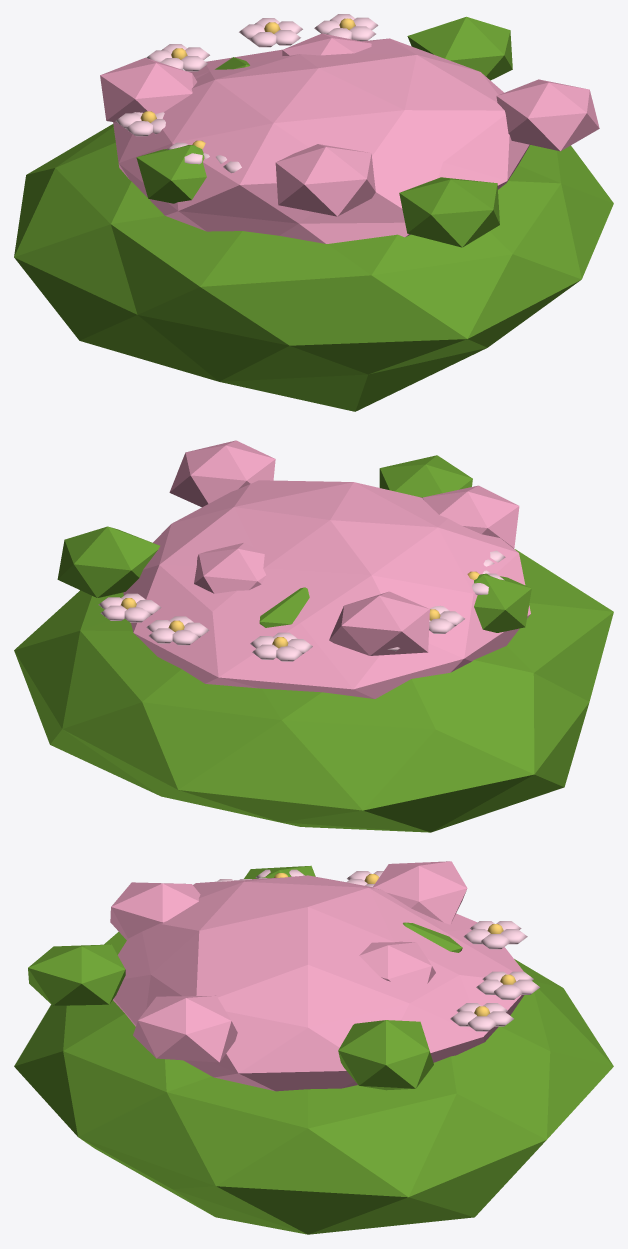
File: blossom-crown-leaf.glb
The picture shows the model from 3 angles, top to bottom: view 1: azimuth 30°, elevation 25°; view 2: azimuth 150°, elevation 25°; view 3: azimuth 270°, elevation 25°; orthographic projection. The views are drawn at different scales.
Parts seen in each view (by area): view 1: blossom-crown; view 2: blossom-crown; view 3: blossom-crown.
Part boxes in pixels (bbox=[...]): blossom-crown: bbox=[14, 14, 613, 411]; blossom-crown: bbox=[14, 440, 613, 832]; blossom-crown: bbox=[14, 861, 613, 1234].
Bounding box in the file's own units: 2.09 × 1.02 × 2.09.
